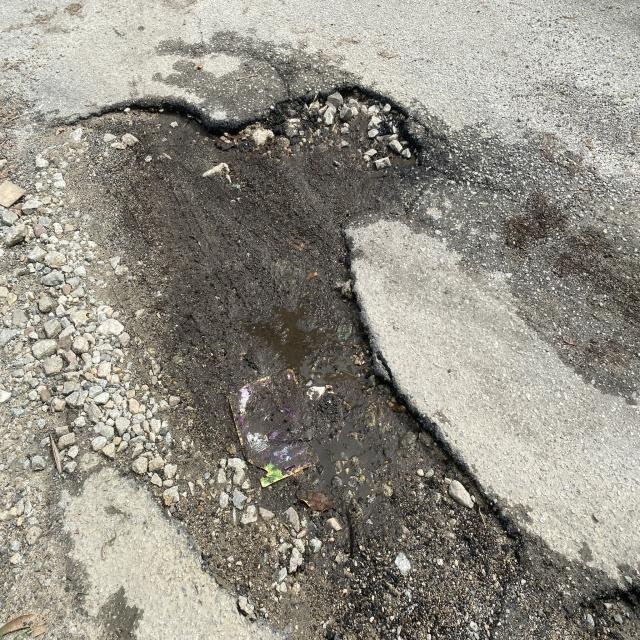Pothole: (308, 217, 544, 605), (96, 42, 467, 164)
